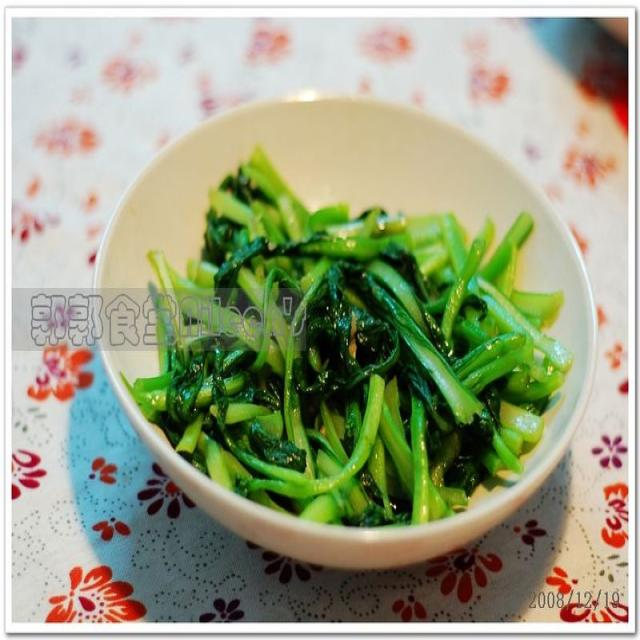蔬菜料理: (49, 124, 314, 623)
